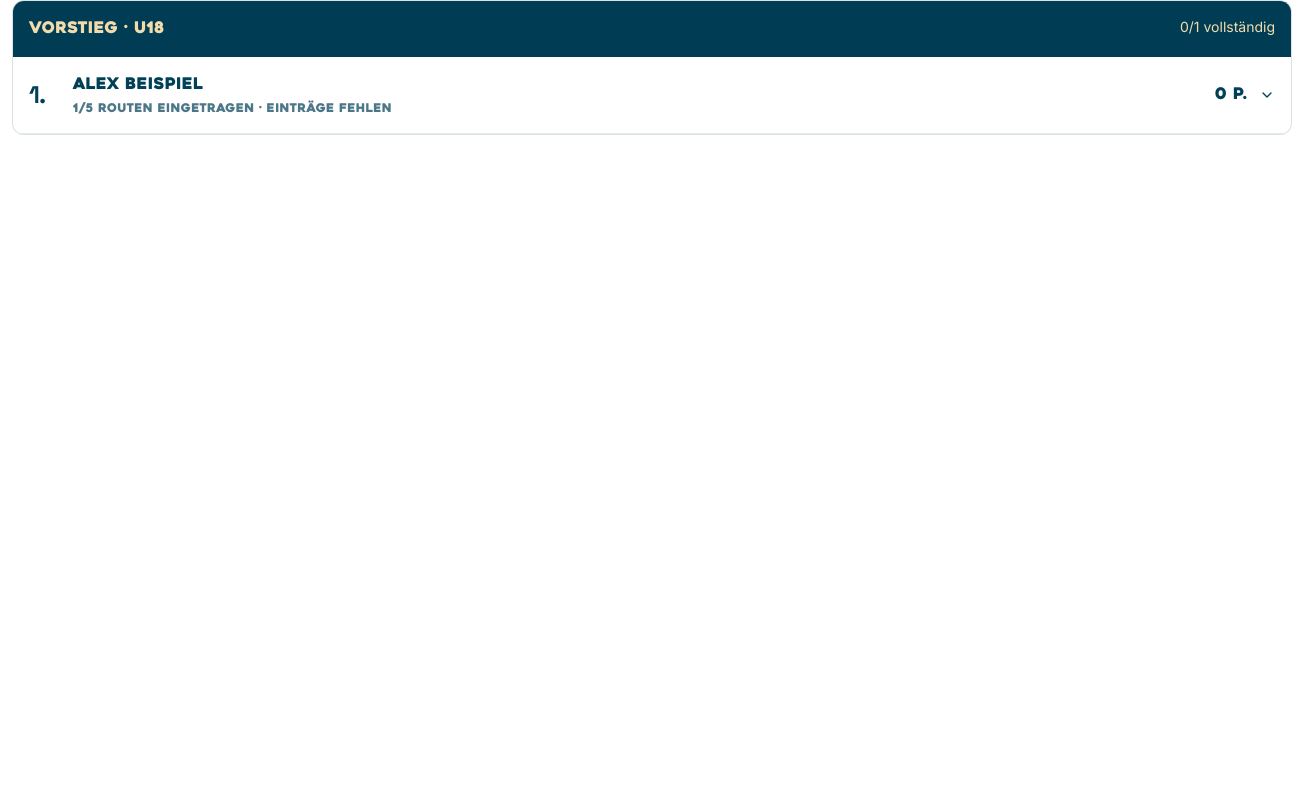
Scenario: semifinal monitoring without a second approval › distinguishes an entered zero from an absent result and expands the five assigned routes
What coordinates should you click on to do the following:
click the button with aria-label "Alex Beispiel: 0 Punkte"
I would click on:
 (138, 85)
Its box is [13,57,1291,133].
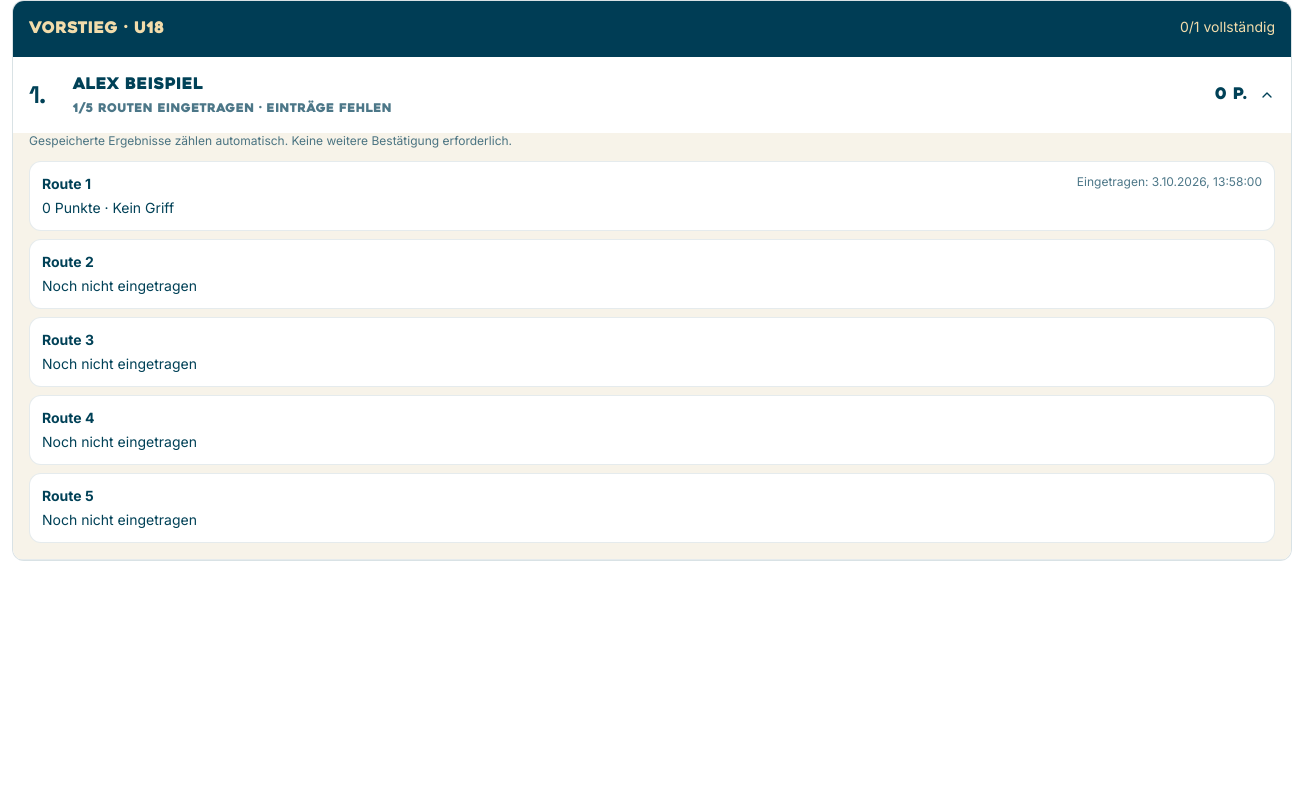
Result: the text "0 Punkte · Kein Griff" is shown at [42,198,174,218]
Result: the text "Noch nicht eingetragen" is shown 4 times at [42,276,197,296]; [42,354,197,374]; [42,432,197,452]; [42,510,197,530]
Result: the text "Eingetragen: 3.10.2026, 13:58:00" is shown at [1077,174,1262,190]
